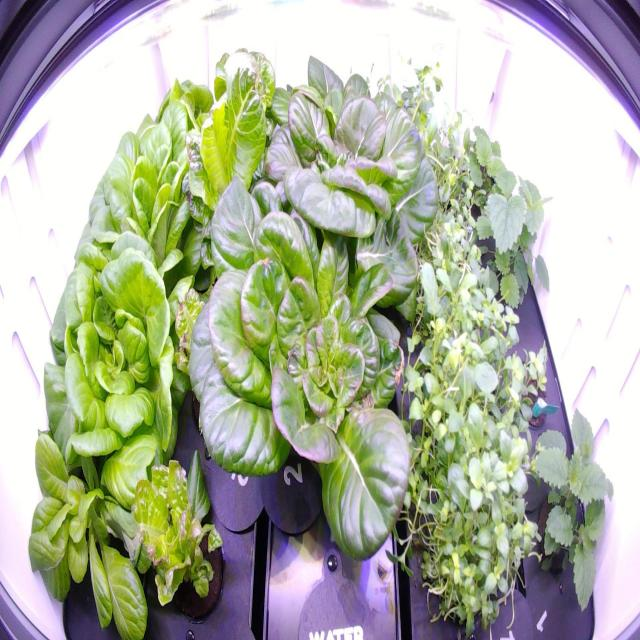Ready: (185, 170, 434, 577), (227, 48, 448, 333), (27, 235, 208, 514), (50, 105, 217, 298), (121, 59, 222, 185)
young: (13, 351, 169, 631)
